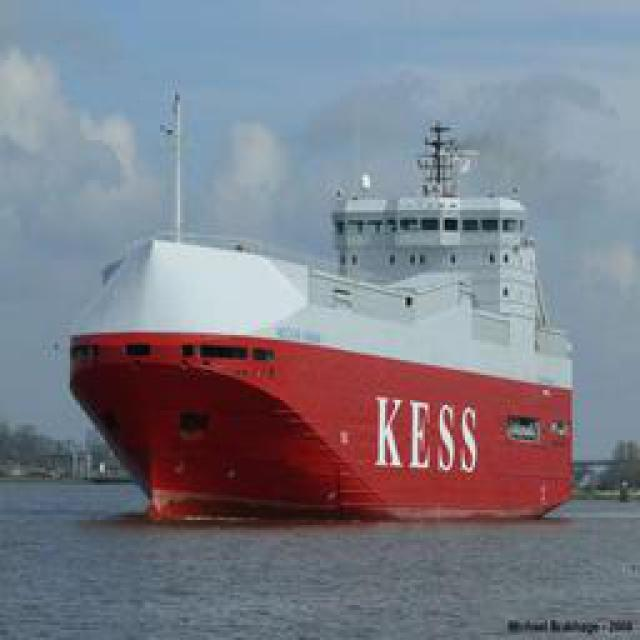Ship: (66, 85, 571, 525)
